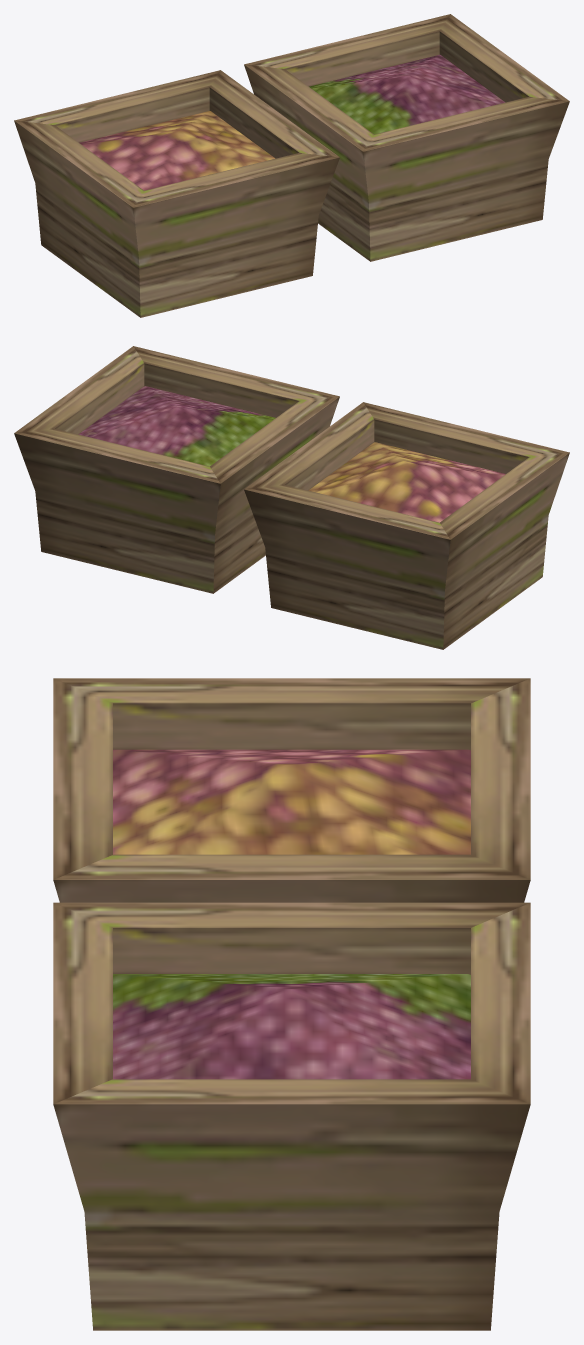
File: Map_04_wooden06.FBX
3 views of the same model, one above another, from view 1: azimuth 30°, elevation 25°; view 2: azimuth 150°, elevation 25°; view 3: azimuth 270°, elevation 25° (orthographic). The views are drawn at different scales.
Parts seen in each view (by area): view 1: Map_04_wooden06; view 2: Map_04_wooden06; view 3: Map_04_wooden06.
Boxes of the visible parts, x1,y1,x2,y2 form: Map_04_wooden06: (14,14,569,317); Map_04_wooden06: (14,346,569,649); Map_04_wooden06: (53,678,530,1330).
Bounding box in the file's own units: 16.42 × 4.62 × 7.78.
